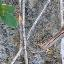Purslane: (0, 0, 62, 31)
